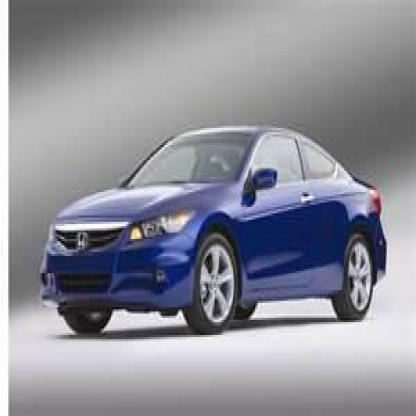Vehicle: (42, 128, 388, 337)
